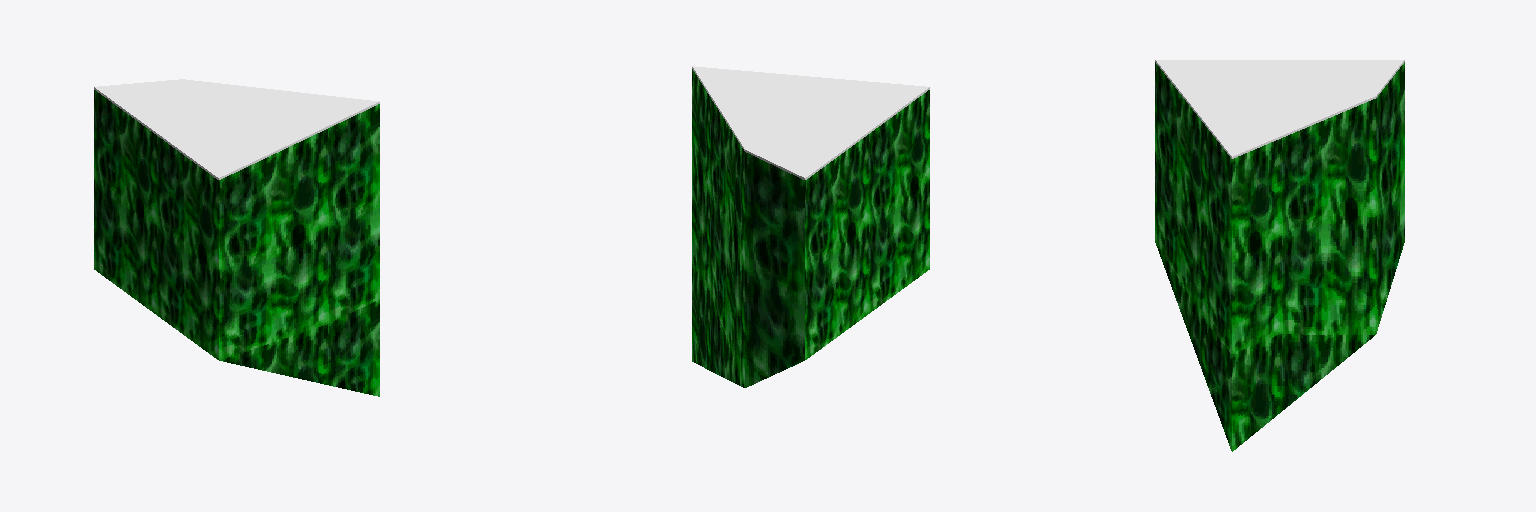
3 renders of one model, left to right at view 1: azimuth 30°, elevation 25°; view 2: azimuth 150°, elevation 25°; view 3: azimuth 270°, elevation 25°, orthographic.
Visible parts, largest first — view 1: world_root; view 2: world_root; view 3: world_root.
Boxes of the visible parts, <box> form: world_root: <box>94,79,379,396</box>; world_root: <box>692,66,929,387</box>; world_root: <box>1155,60,1404,451</box>.
Bounding box in the file's own units: 231 × 326 × 250.
2 materials, 1 textured.